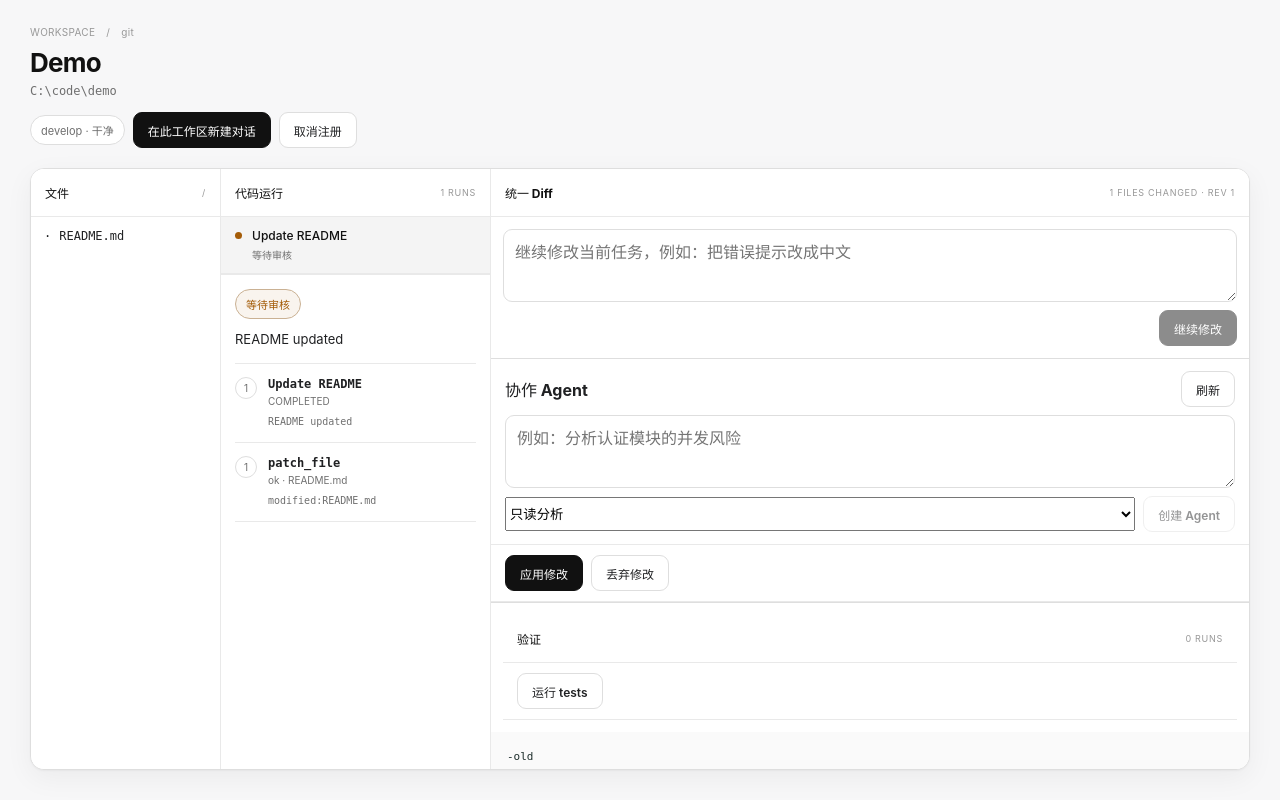
Scenario: local code workspace › runs an operator configured verification profile
Click the button "运行 tests" at (560, 691), box [517,673,603,709]
(page scrolled)
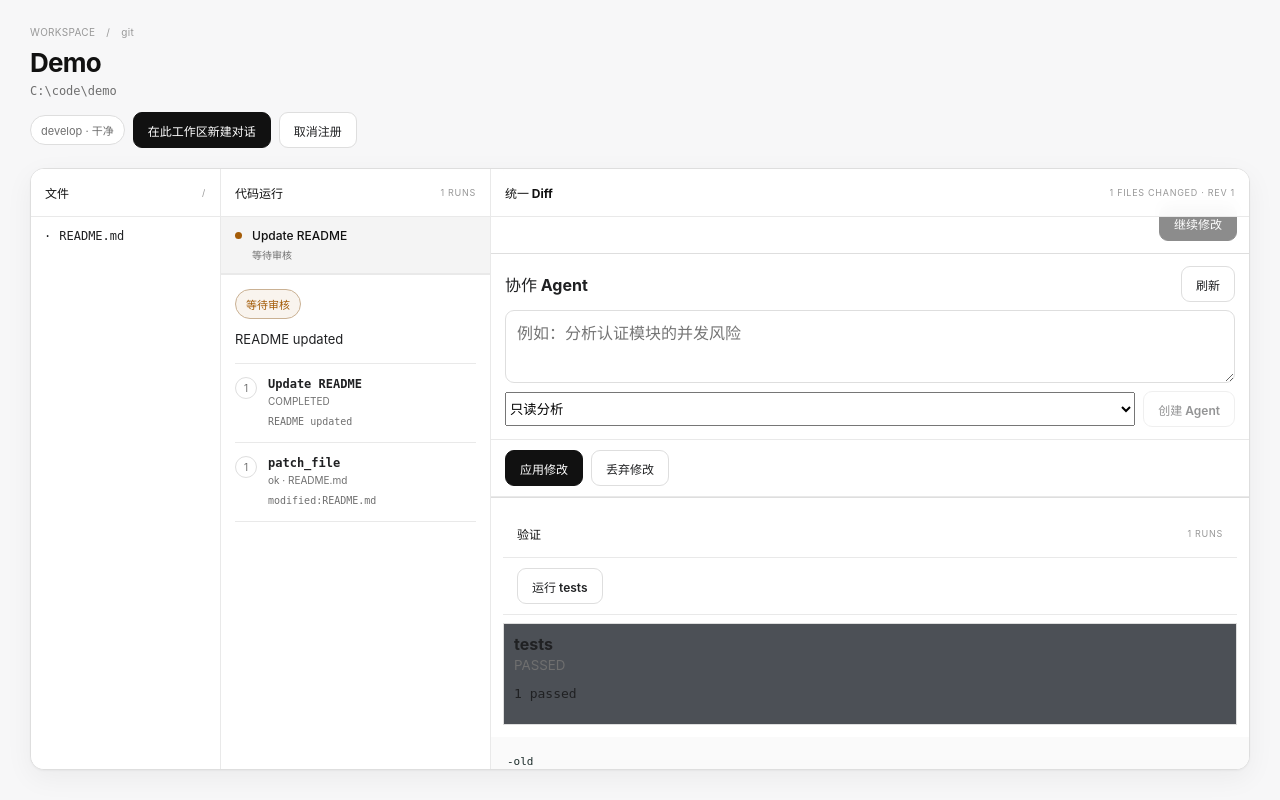
Check: the text "1 passed" is shown, box [514,686,577,701]
